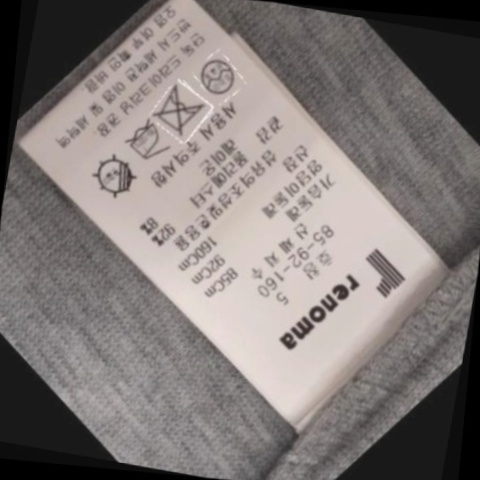DN_wash: (151, 83, 213, 138)
dry_clean_petrol_only: (195, 51, 244, 99)
iron_low: (119, 118, 174, 167)
line_dry_in_shade: (88, 151, 148, 203)
